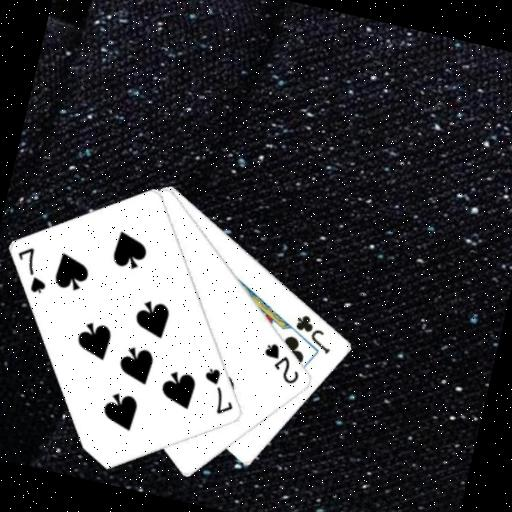2S: (256, 338, 308, 388)
7S: (193, 363, 243, 419), (7, 242, 56, 298)
JC: (288, 310, 339, 357)
